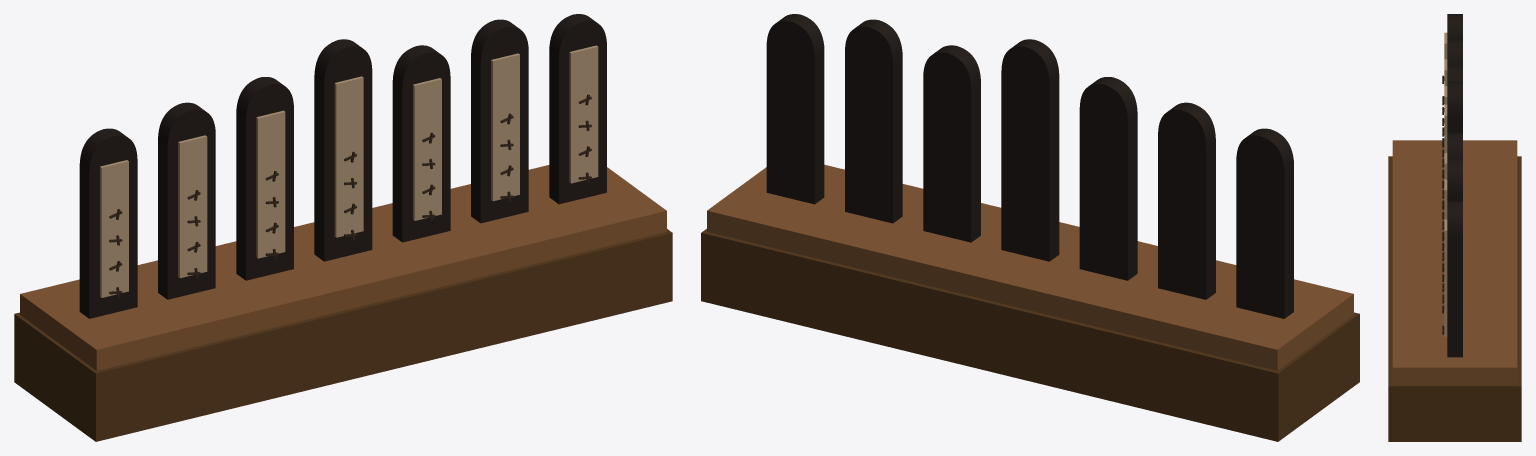
File: mia-tablets.glb
3 views of the same model, side by side, from view 1: azimuth 30°, elevation 25°; view 2: azimuth 150°, elevation 25°; view 3: azimuth 270°, elevation 25° (orthographic). The views are drawn at different scales.
Parts seen in each view (by area): view 1: Body_black, Body_wood, Body_oak, Body_page-beige, Body_grain; view 2: Body_black, Body_wood, Body_oak; view 3: Body_oak, Body_wood, Body_black, Body_page-beige, Body_grain.
Part boxes in pixels (x1=…): Body_black: x1=79, y1=14, x2=606, y2=318; Body_wood: x1=14, y1=229, x2=672, y2=441; Body_oak: x1=20, y1=165, x2=666, y2=370; Body_page-beige: x1=100, y1=45, x2=598, y2=297; Body_grain: x1=109, y1=94, x2=591, y2=297; Body_black: x1=766, y1=14, x2=1293, y2=318; Body_wood: x1=701, y1=229, x2=1359, y2=441; Body_oak: x1=707, y1=164, x2=1353, y2=370; Body_oak: x1=1392, y1=140, x2=1517, y2=384; Body_wood: x1=1388, y1=156, x2=1521, y2=441; Body_black: x1=1447, y1=14, x2=1462, y2=357; Body_page-beige: x1=1444, y1=32, x2=1447, y2=336; Body_grain: x1=1442, y1=75, x2=1444, y2=334.
Bounding box in the file's own units: 1.61 × 0.794 × 0.394.
